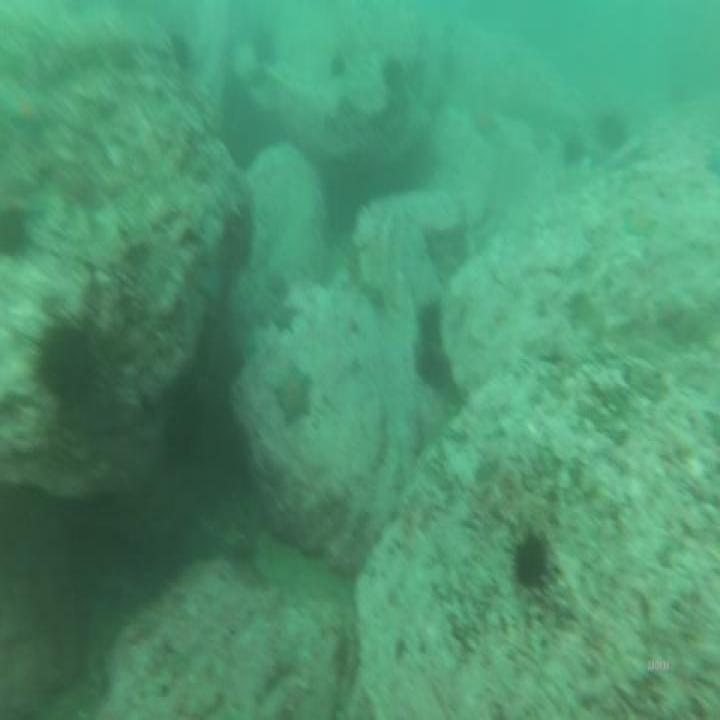echinus: (42, 325, 90, 407), (516, 537, 544, 587), (1, 208, 27, 252), (597, 114, 622, 142), (567, 133, 581, 167), (384, 61, 403, 86)
starfish: (276, 363, 311, 425)
